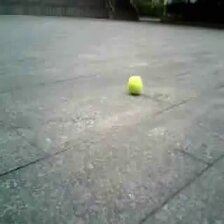tennis: (128, 77, 142, 94)
